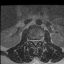CCS_normal: (34, 37, 36, 47)
LFS_normal: (38, 37, 41, 43)
LLS_normal: (36, 37, 38, 44)
RFS_normal: (30, 37, 32, 43)
RLS_normal: (32, 37, 34, 44)
